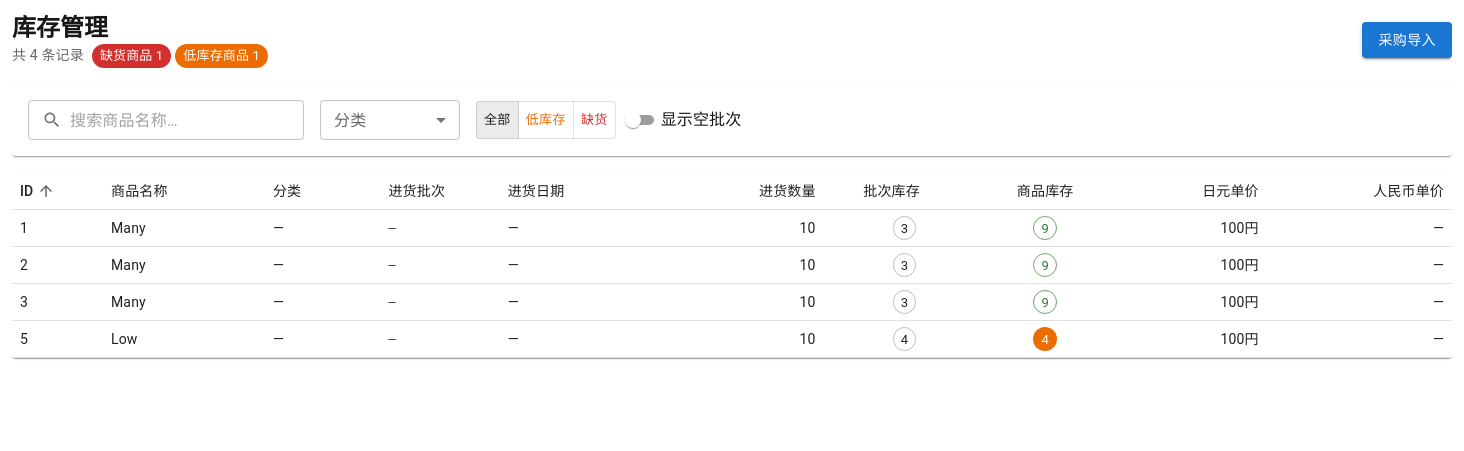
InventoryPage › hides empty batches until 显示空批次 is on
Check: the text "Low" is shown, box [103,321,265,358]
Click the switch labelled "显示空批次": (681, 120) [621,108,741,132]
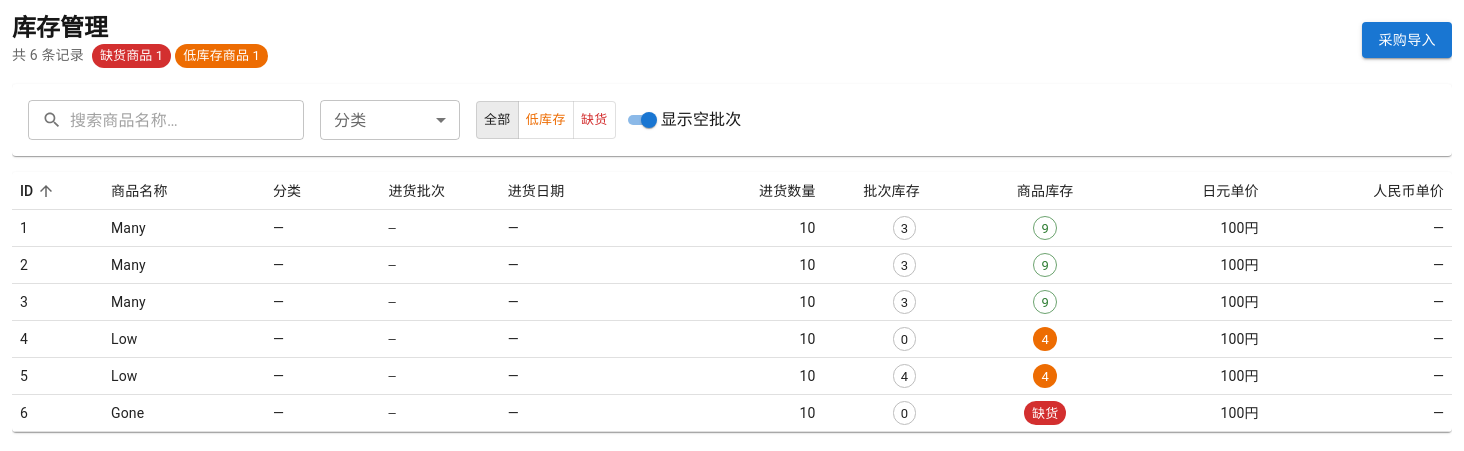
Check: the element with test id "product-stock" reads "缺货", box [1032,406,1058,421]
